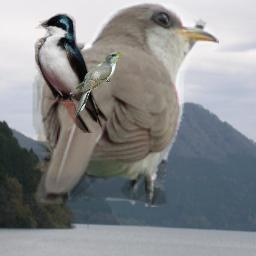Cuckoo: (31, 1, 219, 207), (74, 52, 124, 117)
Swallow: (34, 13, 108, 133)
